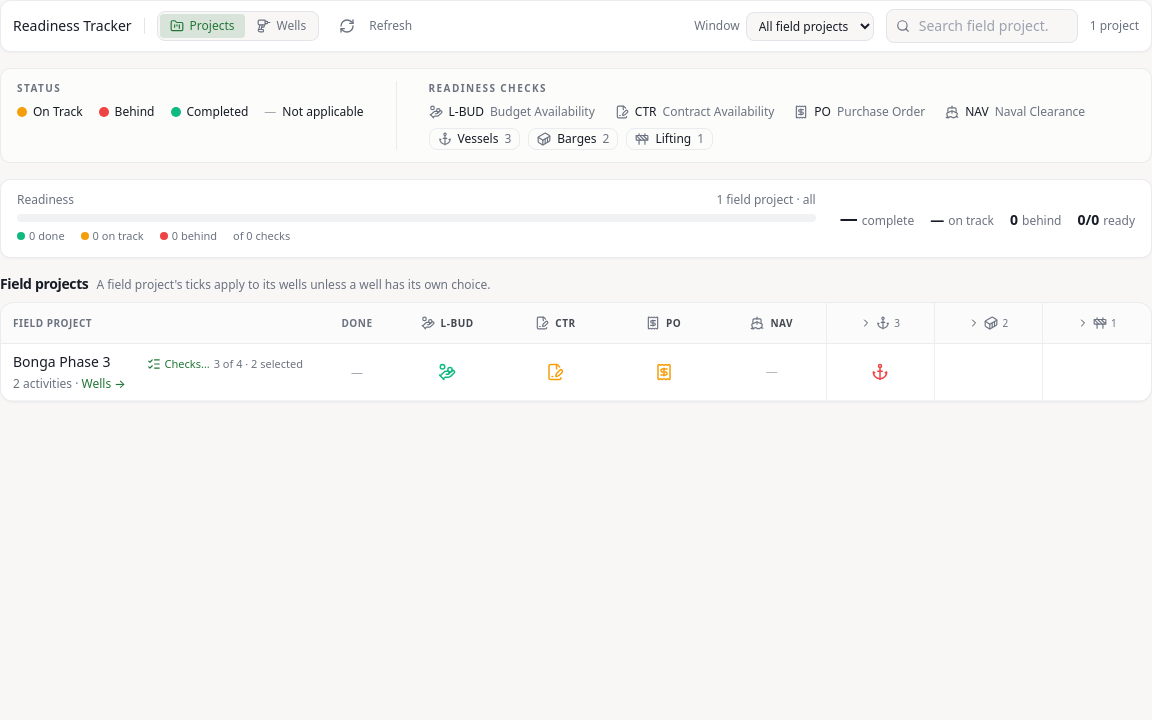
Test: the grouped, searchable tick list (spec §8.8) › a refused save (403) toasts, changes nothing and keeps the choices
Click the button "Checks… 3 of 4 · 2 selected" at (225, 364), box [141, 352, 309, 376]
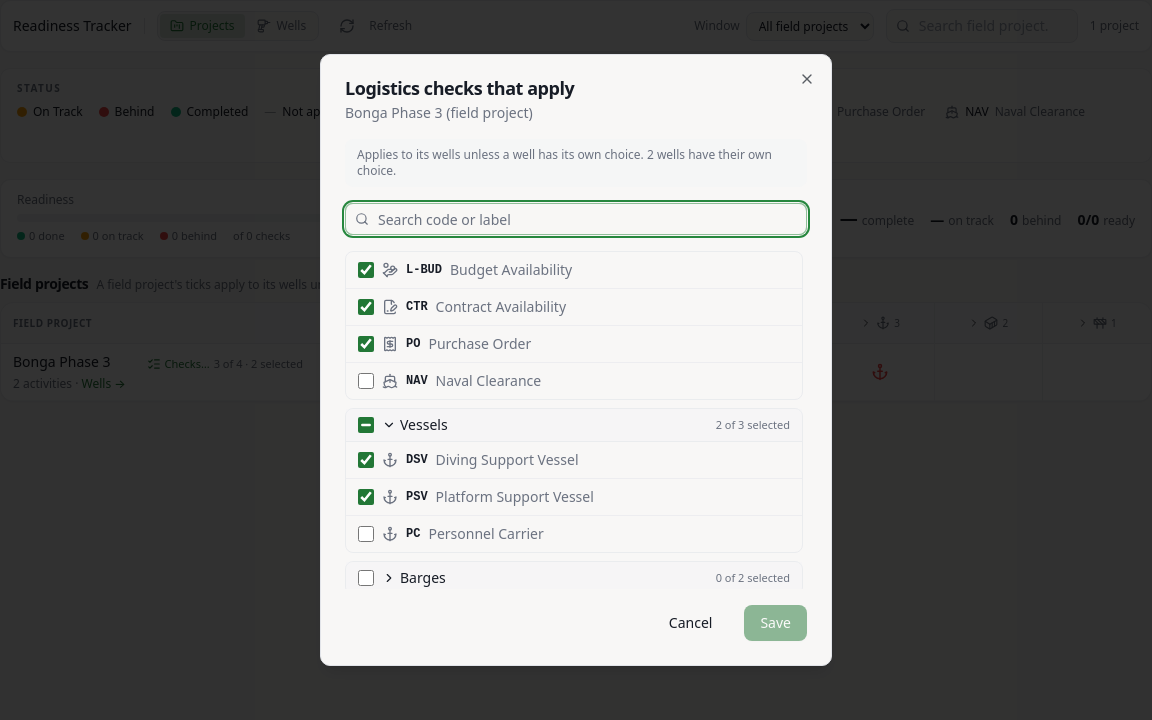
Click the checkbox named "Select all Vessels" at (366, 425), box [358, 417, 374, 433]
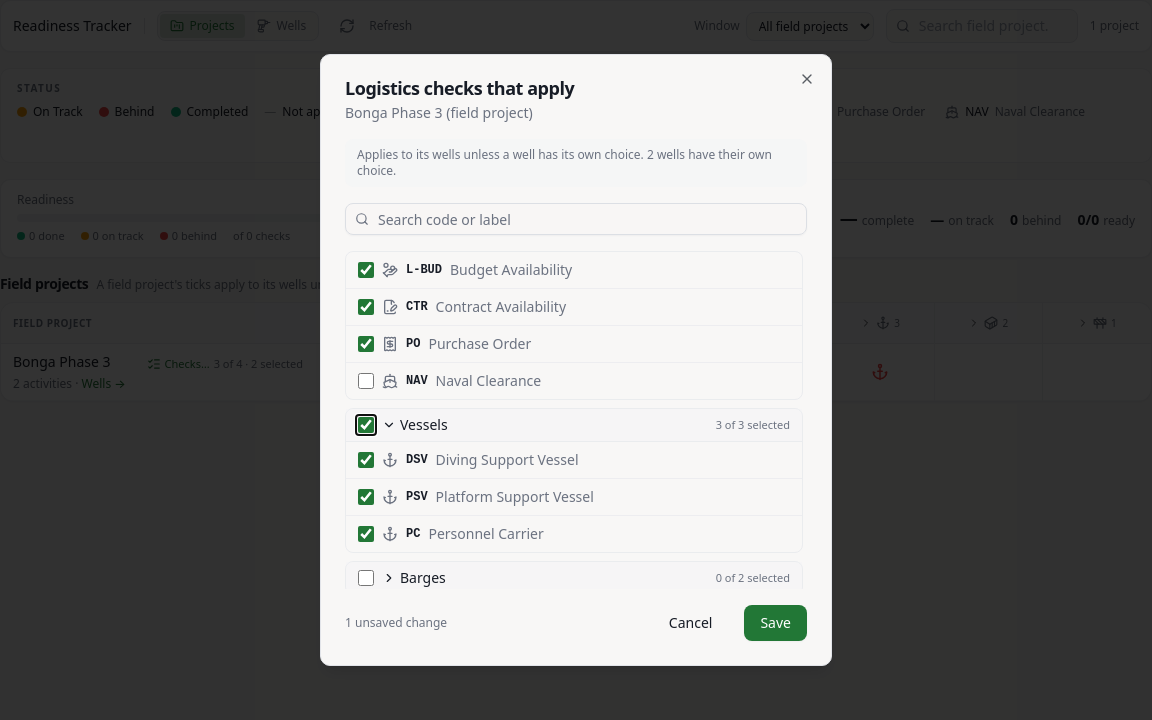
Click the button "Save" at (776, 623), box [744, 605, 807, 641]
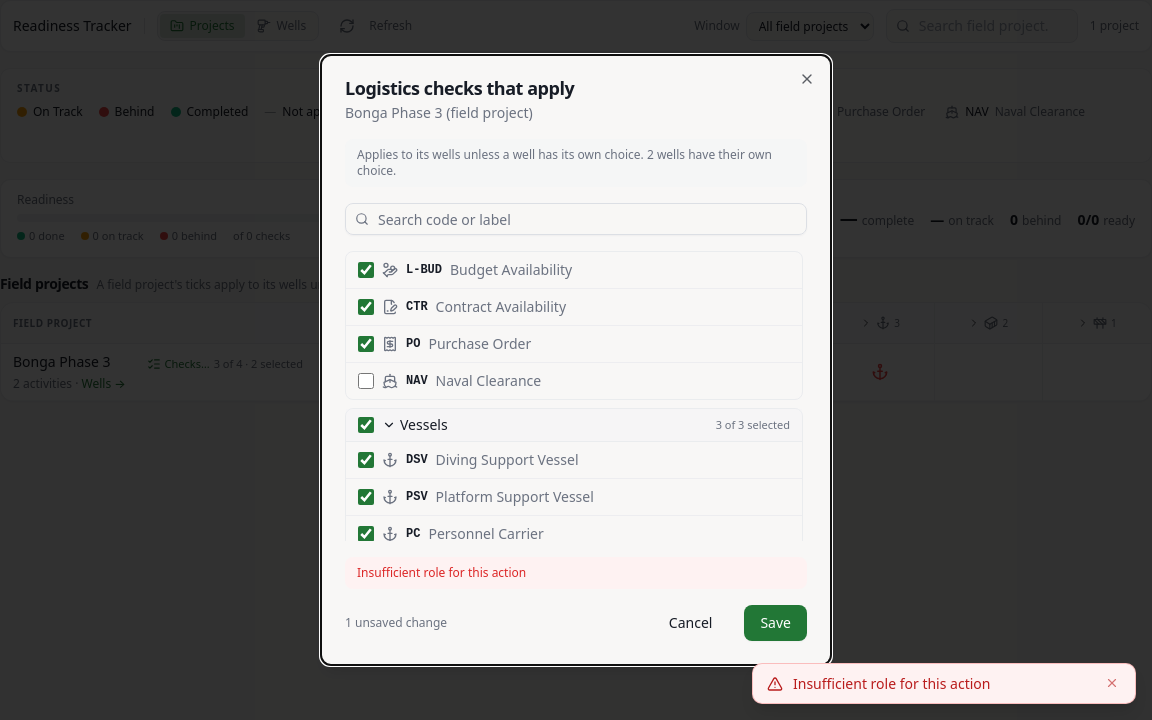
expect the checkbox named "PC" is checked: met, box [358, 526, 374, 541]
expect the message "Insufficient role for this action" below "Personnel Carrier" is shown: met, box [357, 564, 526, 581]
